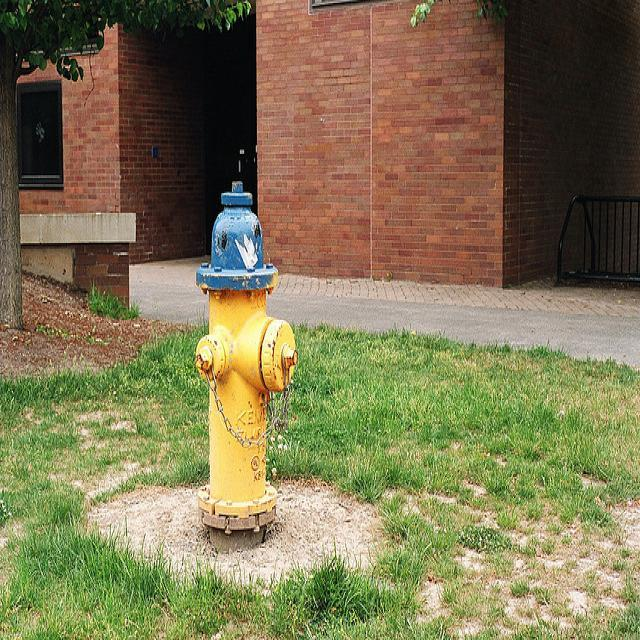fire_hydrant: (194, 178, 296, 547)
